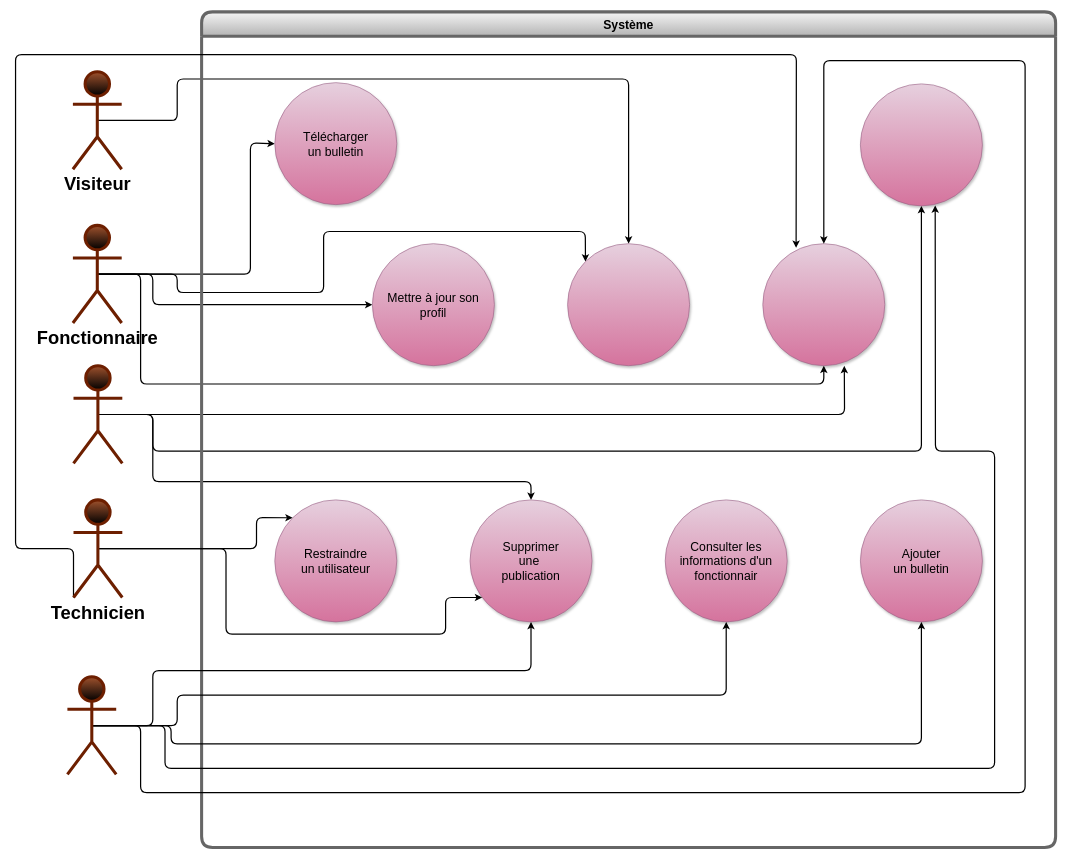
Image size: 1068x859. Some labels were removed from this diagram. The centre of each missing label's shape, as x and y in pixels:
"CASEF" belongs at (x=91, y=725).
"Entité" belongs at (x=98, y=414).
"Faire une publication" belongs at (x=921, y=145).
"Lire une publication" belongs at (x=629, y=305).
"S'authentifier" belongs at (x=824, y=305).
